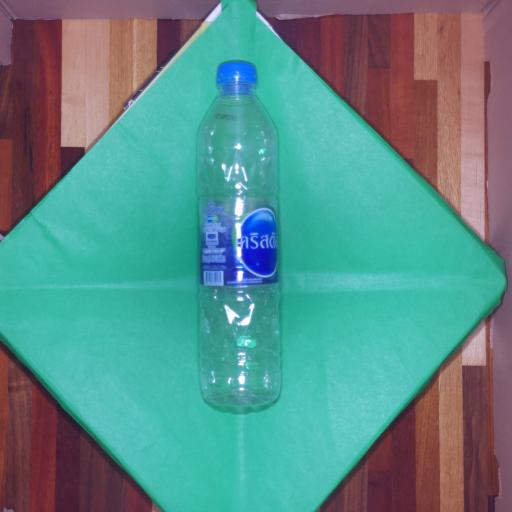bottle: (198, 62, 280, 407)
